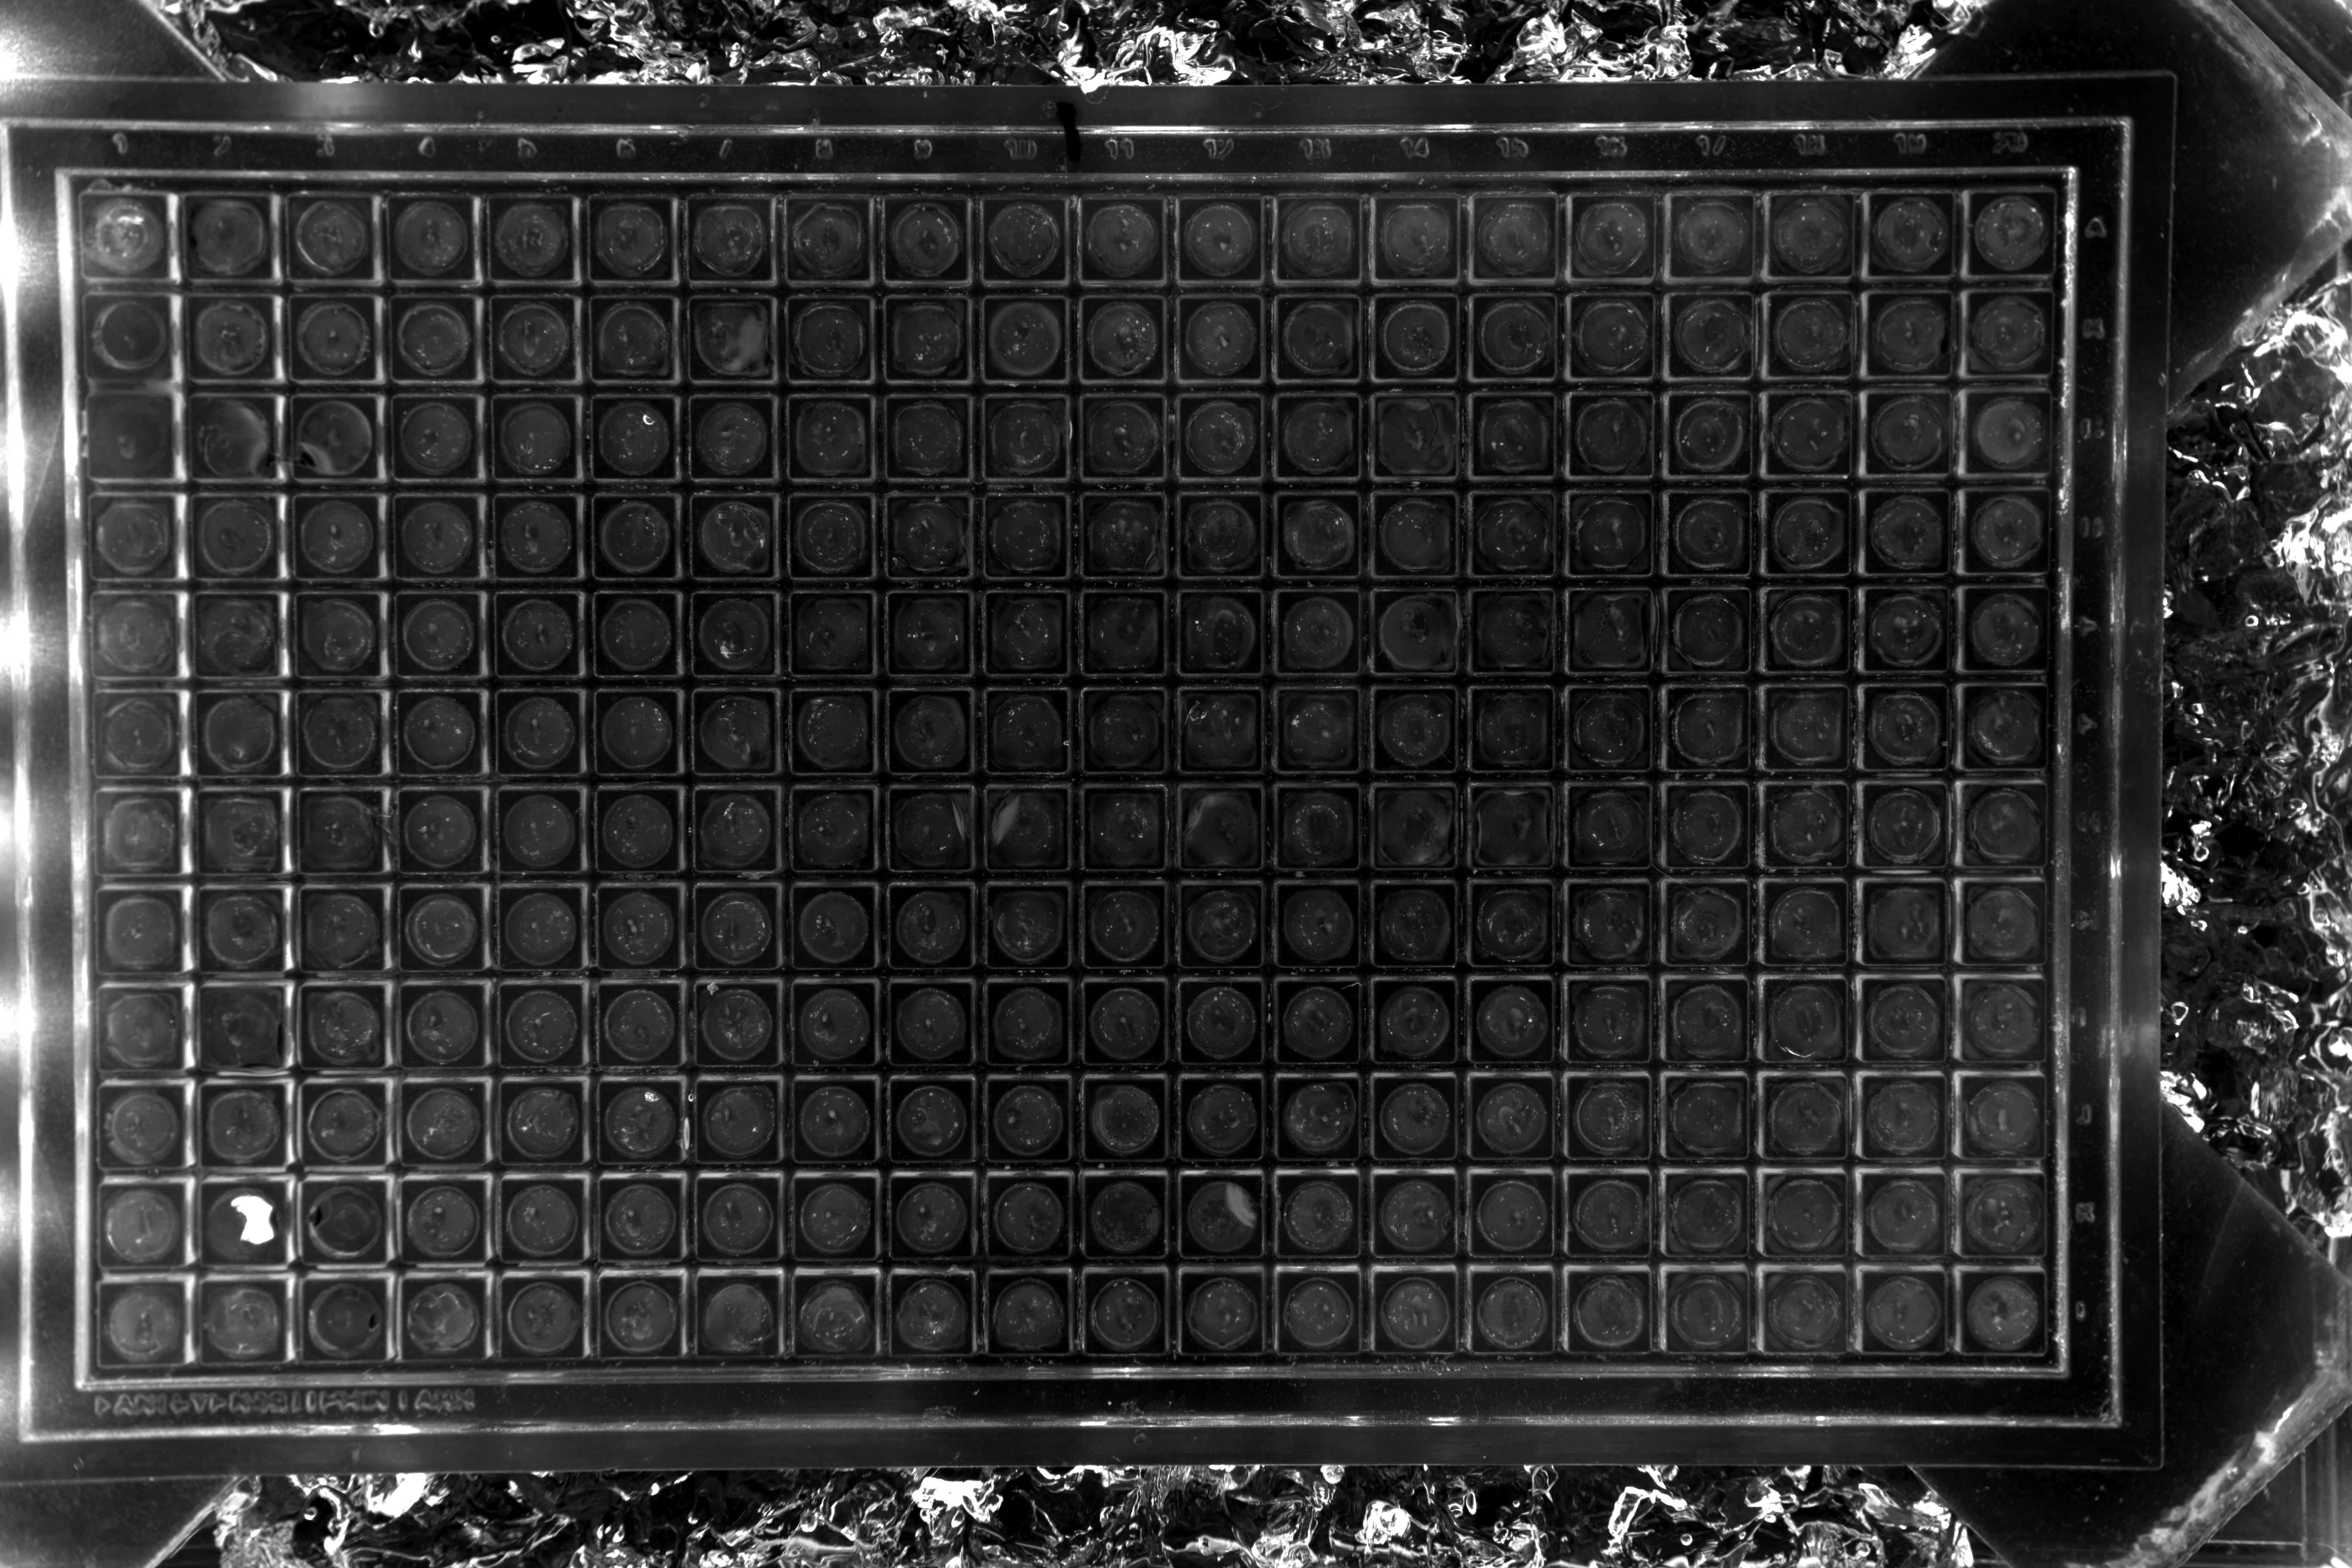WM_well: (399, 651, 488, 738), (493, 945, 583, 1032), (789, 462, 878, 549), (198, 1043, 285, 1130), (205, 360, 292, 448), (294, 1143, 381, 1230), (303, 264, 390, 352), (392, 1143, 479, 1230), (595, 362, 682, 450), (595, 556, 682, 644), (882, 1337, 969, 1424), (885, 947, 973, 1034), (887, 462, 975, 549), (980, 1337, 1067, 1424), (1078, 1337, 1165, 1424), (1080, 464, 1167, 551), (1274, 754, 1361, 842), (1368, 269, 1456, 357), (1564, 656, 1652, 744), (1662, 656, 1750, 744), (1762, 852, 1850, 940), (1956, 366, 2044, 453), (1965, 1351, 2053, 1438), (2063, 1253, 2151, 1340)
